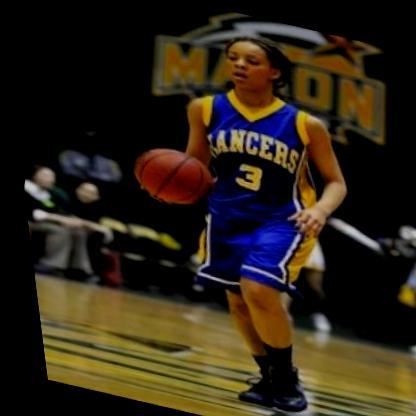basketball: (118, 137, 214, 210)
